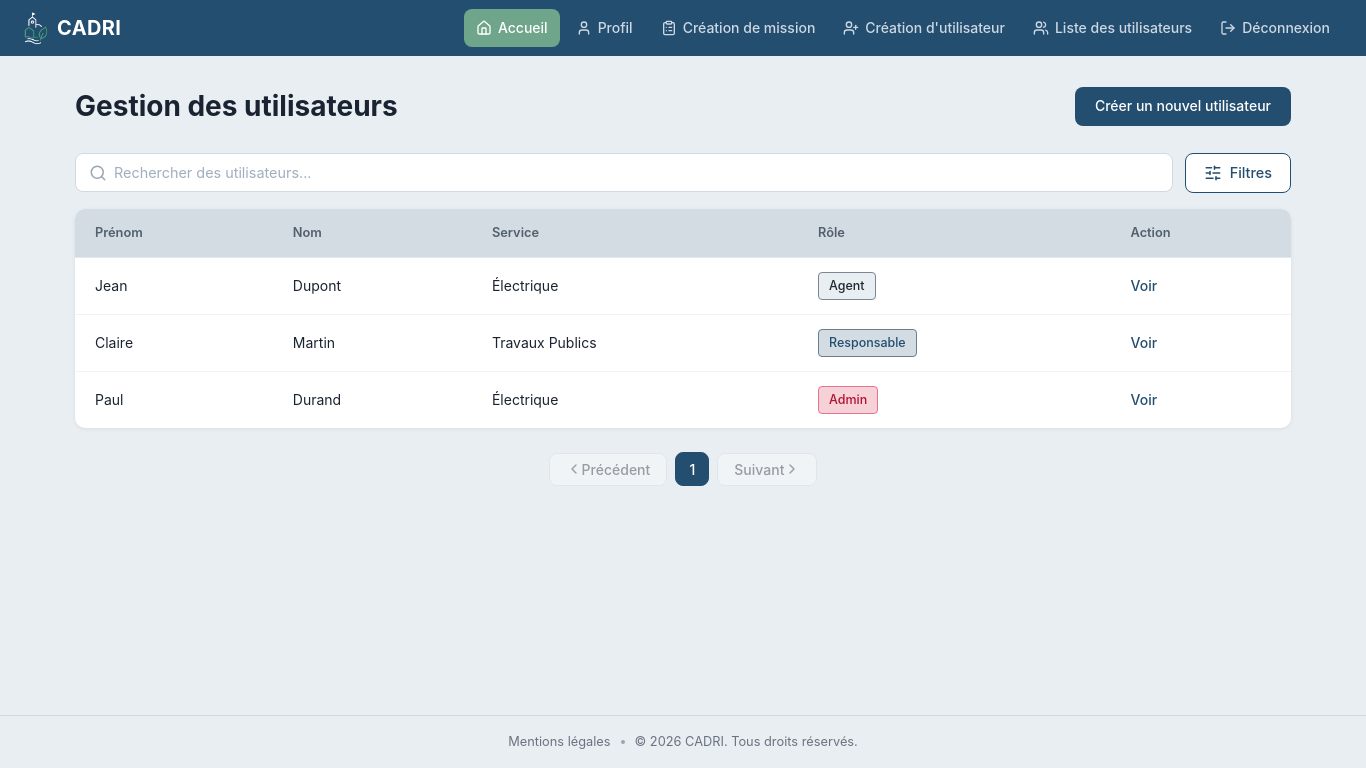
UserManagementPage — filtres › cliquer sur le bouton Filtres ouvre le panneau de filtres
The width and height of the screenshot is (1366, 768).
Expected: the text "Jean" is shown, [75,258,273,315]
Click the button "Filtres" at (1238, 173), box [1185,153,1291,193]
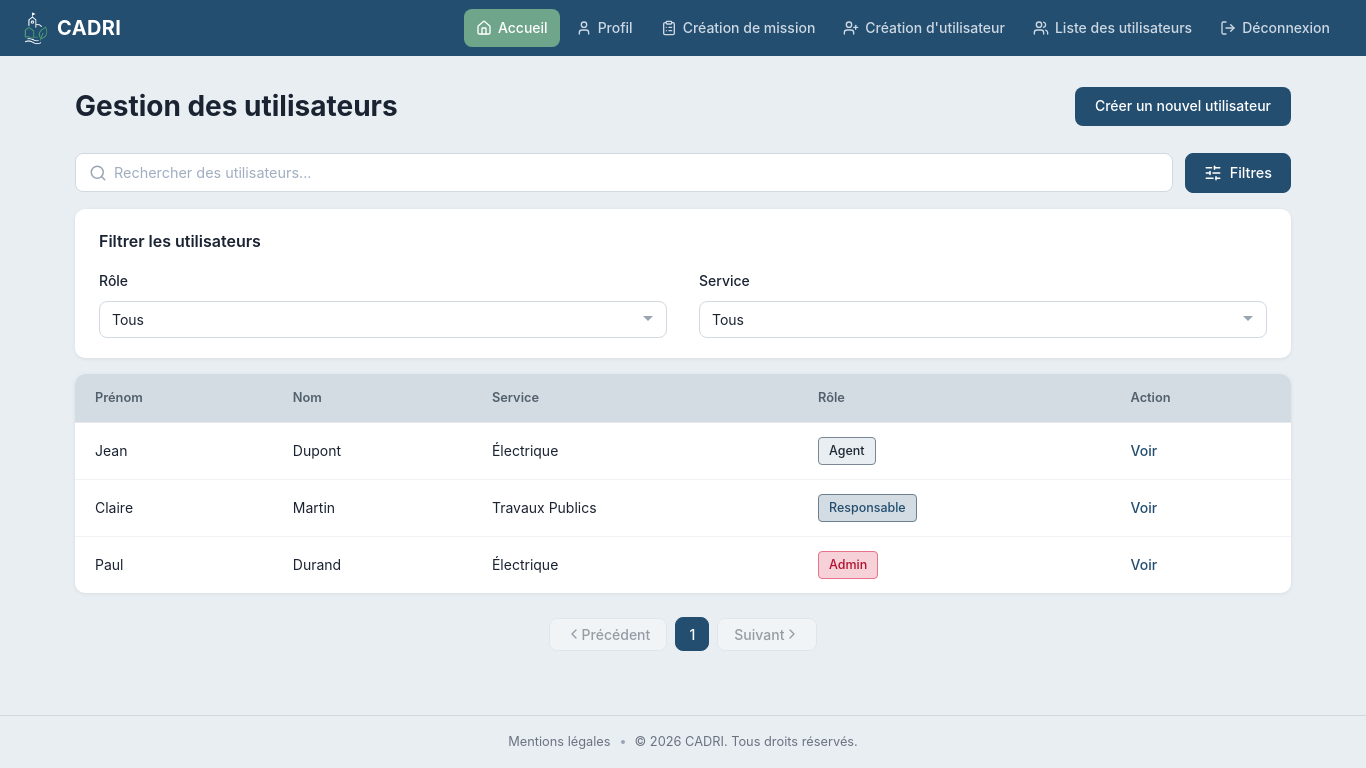
Expected: the text "Filtrer les utilisateurs" is shown, [99,231,261,251]
